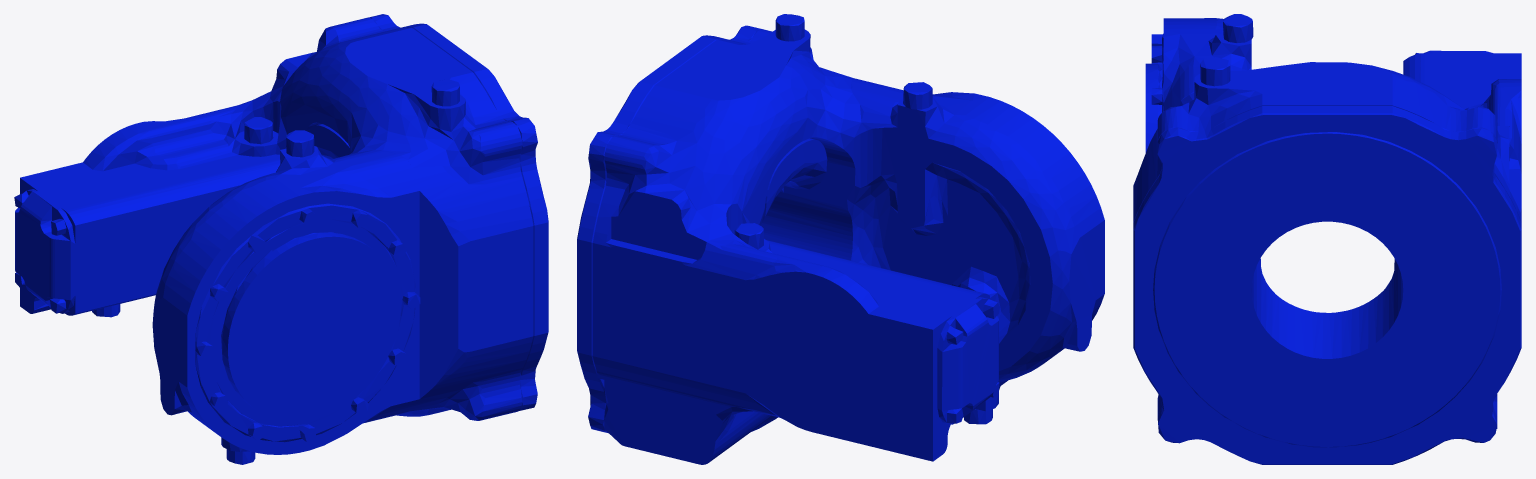
3 views of the same model, side by side, from view 1: azimuth 30°, elevation 25°; view 2: azimuth 150°, elevation 25°; view 3: azimuth 270°, elevation 25° (orthographic). The views are drawn at different scales.
Visible parts, largest first — view 1: Gp12_Link_5_B; view 2: Gp12_Link_5_B; view 3: Gp12_Link_5_B.
Part boxes in pixels (x1,y1,x2,y2): Gp12_Link_5_B: (14,14,548,464); Gp12_Link_5_B: (577,14,1104,464); Gp12_Link_5_B: (1133,14,1521,464).
Bounding box in the file's own units: 0.1488 × 0.128 × 0.134.
